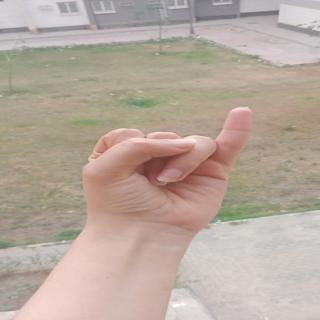MEEM: (80, 97, 283, 235)
